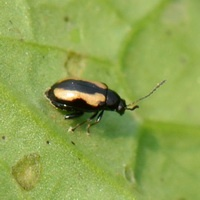insect: (45, 79, 165, 131)
